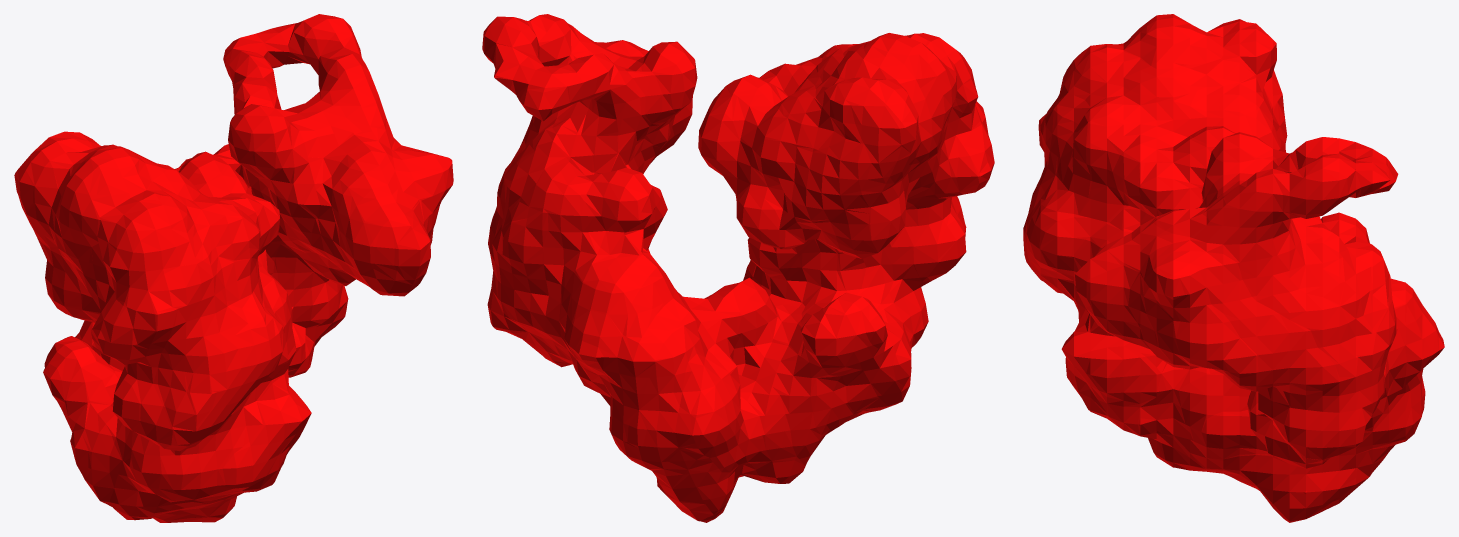
The model's file is glnD_coarse.dae.
3 renders of one model, left to right at view 1: azimuth 30°, elevation 25°; view 2: azimuth 150°, elevation 25°; view 3: azimuth 270°, elevation 25°, orthographic. The views are drawn at different scales.
Parts seen in each view (by area): view 1: glnD; view 2: glnD; view 3: glnD.
Part boxes in pixels (x1=…): glnD: x1=14, y1=14, x2=453, y2=522; glnD: x1=482, y1=14, x2=994, y2=522; glnD: x1=1023, y1=14, x2=1444, y2=522.
Size of the model in its own units: 91.57 by 97.6 by 83.72.
